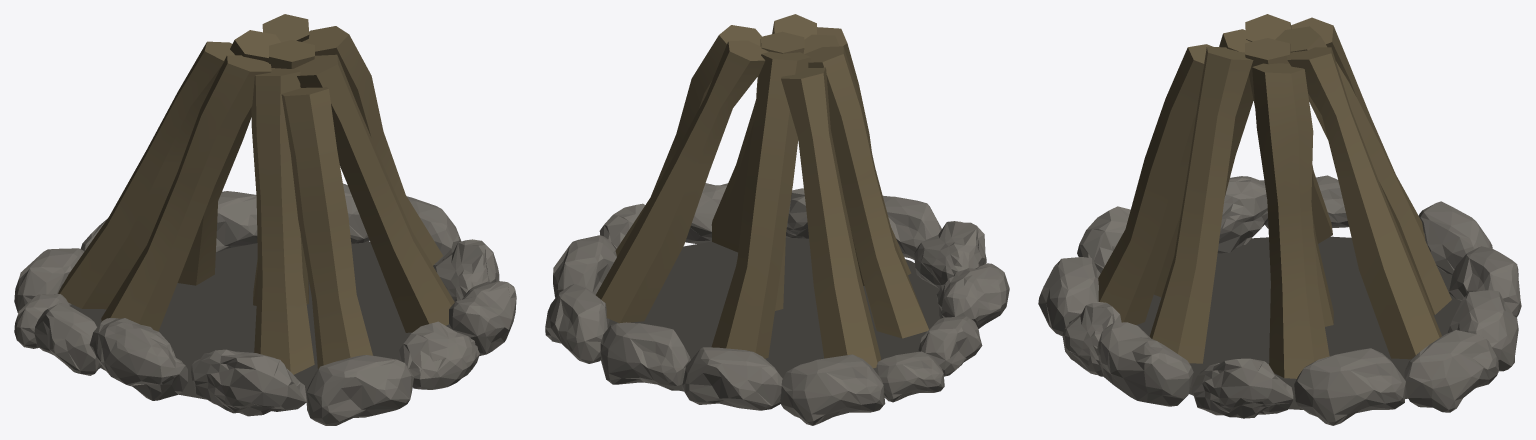
Rendered from CampFire.fbx.
3 views of the same model, side by side, from view 1: azimuth 30°, elevation 25°; view 2: azimuth 150°, elevation 25°; view 3: azimuth 270°, elevation 25° (orthographic). The views are drawn at different scales.
Visible parts, largest first — view 1: pPlatonic16; view 2: pPlatonic16; view 3: pPlatonic16.
Boxes of the visible parts, bbox=[...] form: pPlatonic16: bbox=[14, 14, 516, 425]; pPlatonic16: bbox=[545, 14, 1009, 425]; pPlatonic16: bbox=[1038, 14, 1521, 425].
Bounding box in the file's own units: 9.44 × 6.42 × 9.3.
